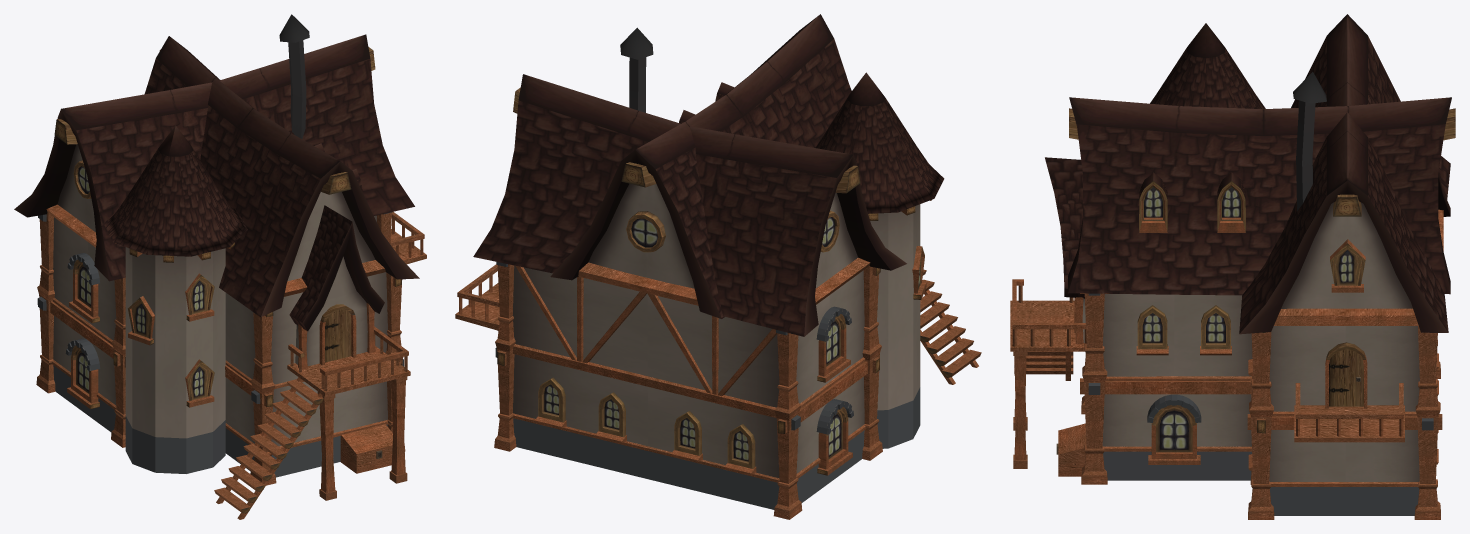
Rendered from fanasty_mod_village_building02.fbx.
3 views of the same model, side by side, from view 1: azimuth 30°, elevation 25°; view 2: azimuth 150°, elevation 25°; view 3: azimuth 270°, elevation 25° (orthographic). The views are drawn at different scales.
Visible parts, largest first — view 1: village_building_02; view 2: village_building_02; view 3: village_building_02.
Part boxes in pixels (bbox=[...]): village_building_02: bbox=[14, 14, 426, 519]; village_building_02: bbox=[455, 14, 981, 519]; village_building_02: bbox=[1010, 14, 1455, 519].
Bounding box in the file's own units: 14.84 × 14.63 × 14.48.
